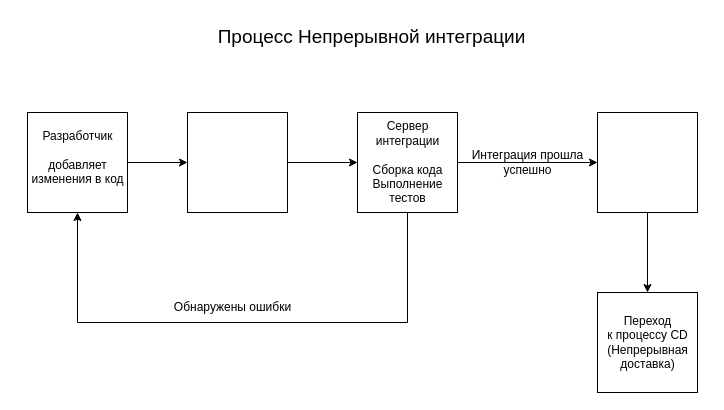
The diagram is 724 pixels wide and 410 high, and some of its shapes have lost their labels. Here are the shapes that lost their labels. From the top down, the centre of each, then its label:
point 237,162: Система контроля версий
point 647,162: Изменения добавляются в главную ветку
